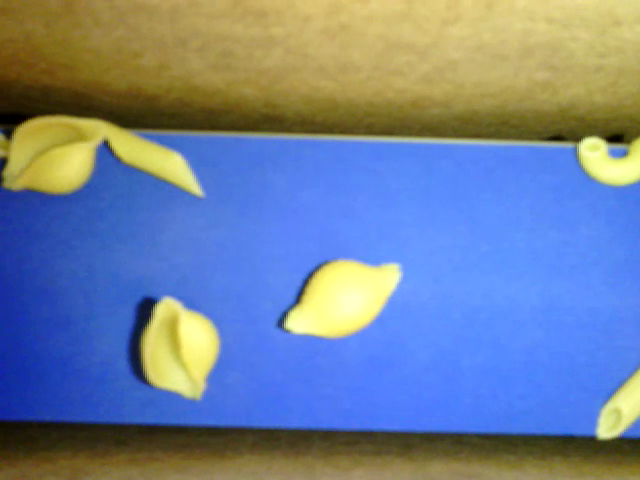elbow: (578, 136, 639, 185)
penne: (105, 122, 203, 196), (595, 369, 639, 439)
shell: (281, 258, 401, 339), (2, 115, 109, 193), (140, 296, 218, 401)
